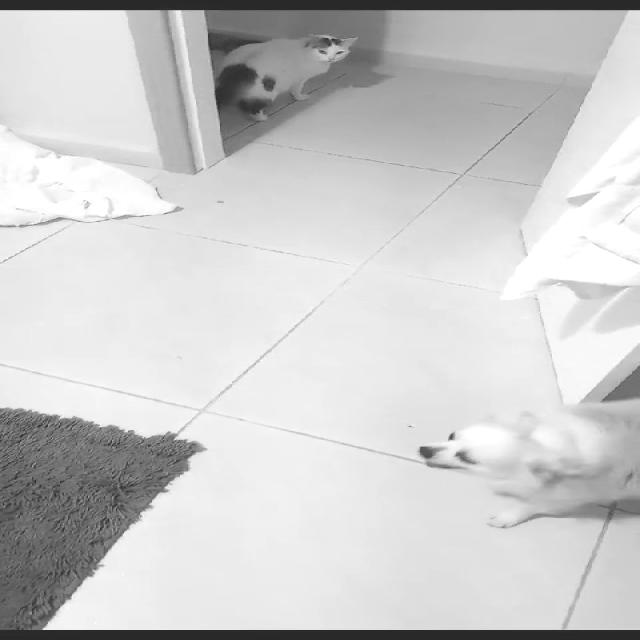Simba: (222, 12, 372, 146)
Theo: (414, 392, 638, 554)
